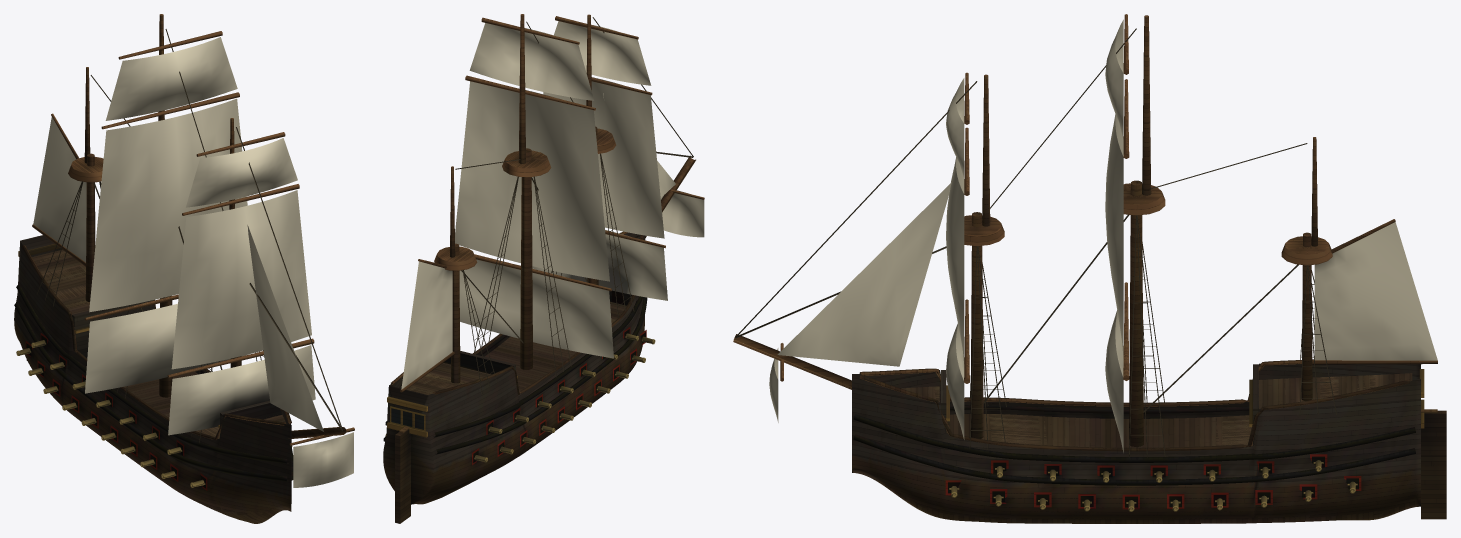
File: model_built.glb
3 renders of one model, left to right at view 1: azimuth 30°, elevation 25°; view 2: azimuth 150°, elevation 25°; view 3: azimuth 270°, elevation 25°, orthographic. The views are drawn at different scales.
Visible parts, largest first — view 1: sails, hull, rig, rigging, guns; view 2: sails, hull, rig, rigging, guns; view 3: hull, sails, rig, rigging, guns.
Part boxes in pixels (box(x1,y1,x2,y2)): sails: box(33, 37, 353, 487); hull: box(14, 235, 293, 523); rig: box(32, 14, 354, 445); rigging: box(37, 29, 343, 442); guns: box(16, 340, 292, 487); sails: box(401, 21, 704, 389); hull: box(383, 231, 647, 523); rig: box(400, 14, 704, 392); rigging: box(455, 17, 693, 394); guns: box(385, 333, 655, 462); hull: box(852, 359, 1446, 523); sails: box(769, 19, 1437, 452); rig: box(733, 14, 1437, 446); rigging: box(735, 28, 1336, 457); guns: box(949, 460, 1357, 511).
Bounding box in the file's own units: 12.4 × 30.3 × 38.86.
5 materials, 2 textured.
